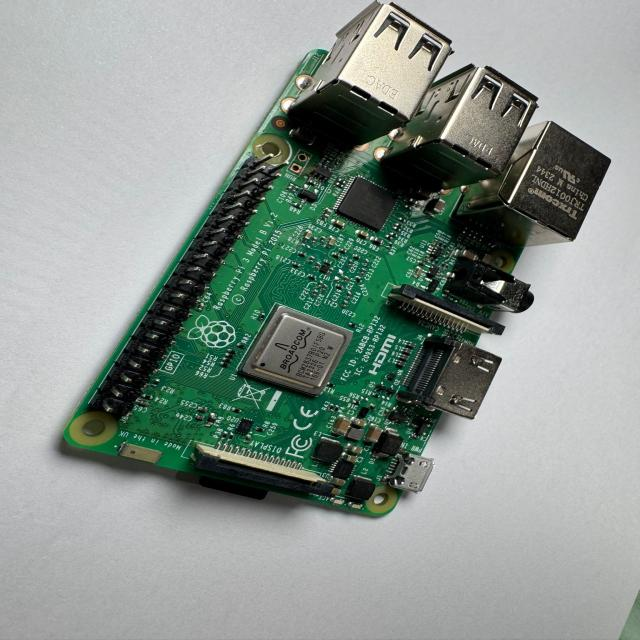CPU: (238, 307, 359, 398)
Ethernet: (446, 119, 624, 259)
GPIO: (83, 151, 293, 425)
HDMI: (390, 333, 510, 424)
RAM-3: (328, 174, 401, 233)
Raspberry: (55, 6, 620, 521)
